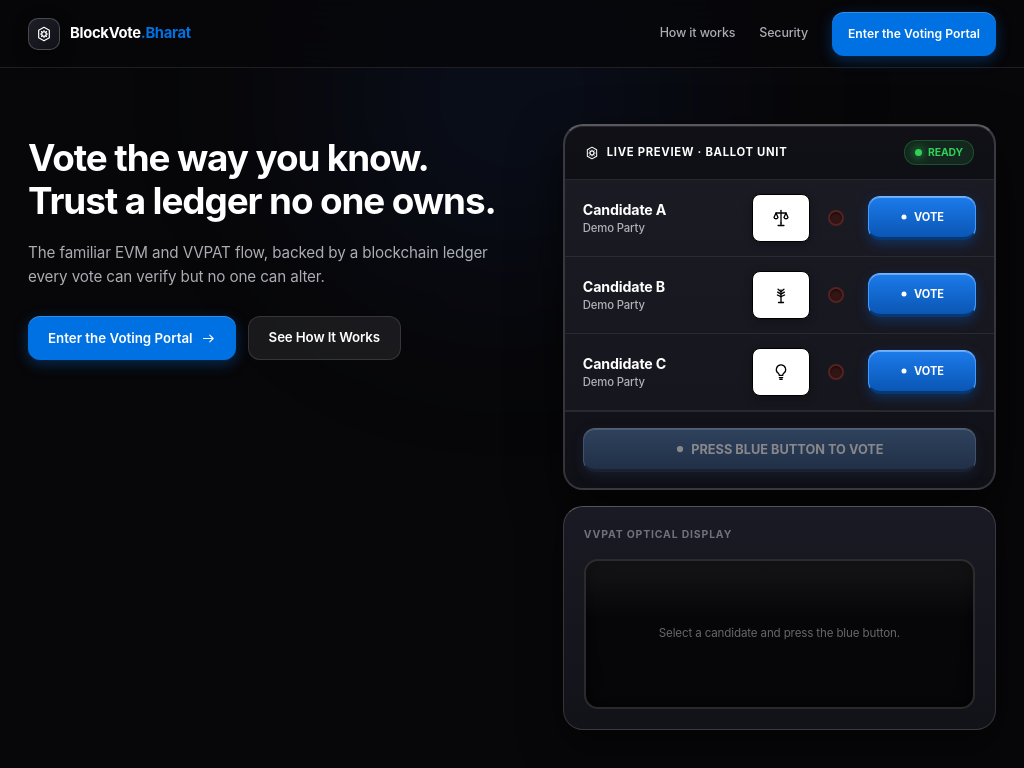
LandingView Component › lets a visitor try the live EVM/VVPAT preview before entering the app
The image size is (1024, 768).
Click the text "Candidate A" at (625, 209), box [583,201,666,218]
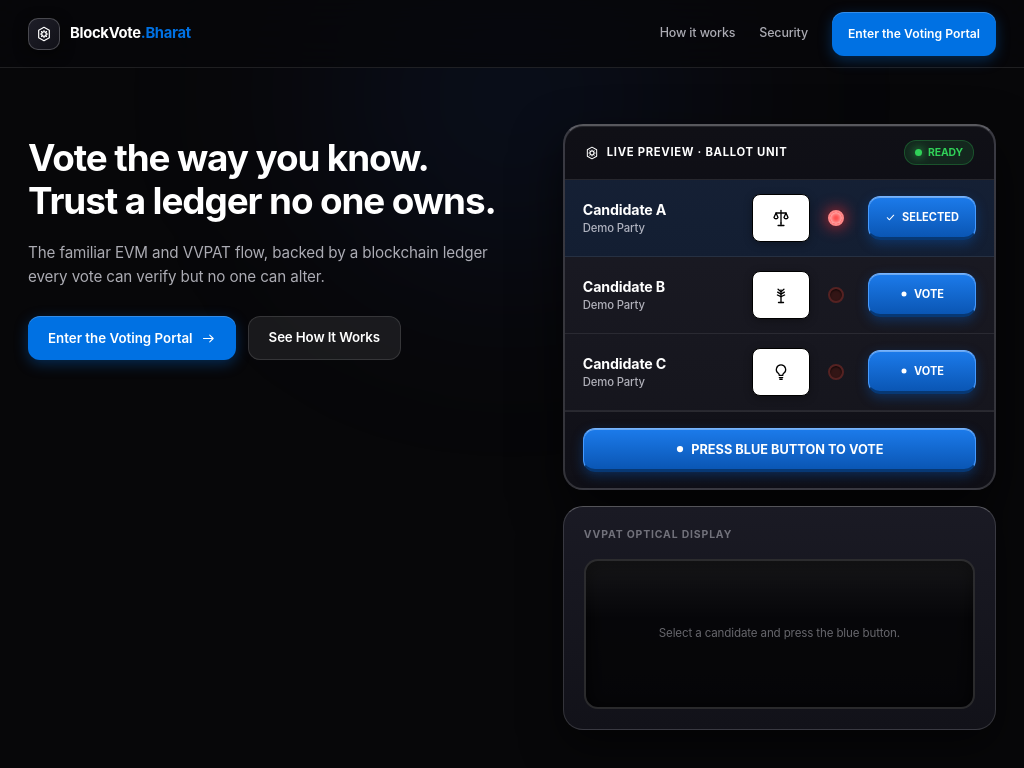
Check: the button "PRESS BLUE BUTTON TO VOTE" is enabled
Click the button "PRESS BLUE BUTTON TO VOTE" at (779, 450), box [583,428,976,472]
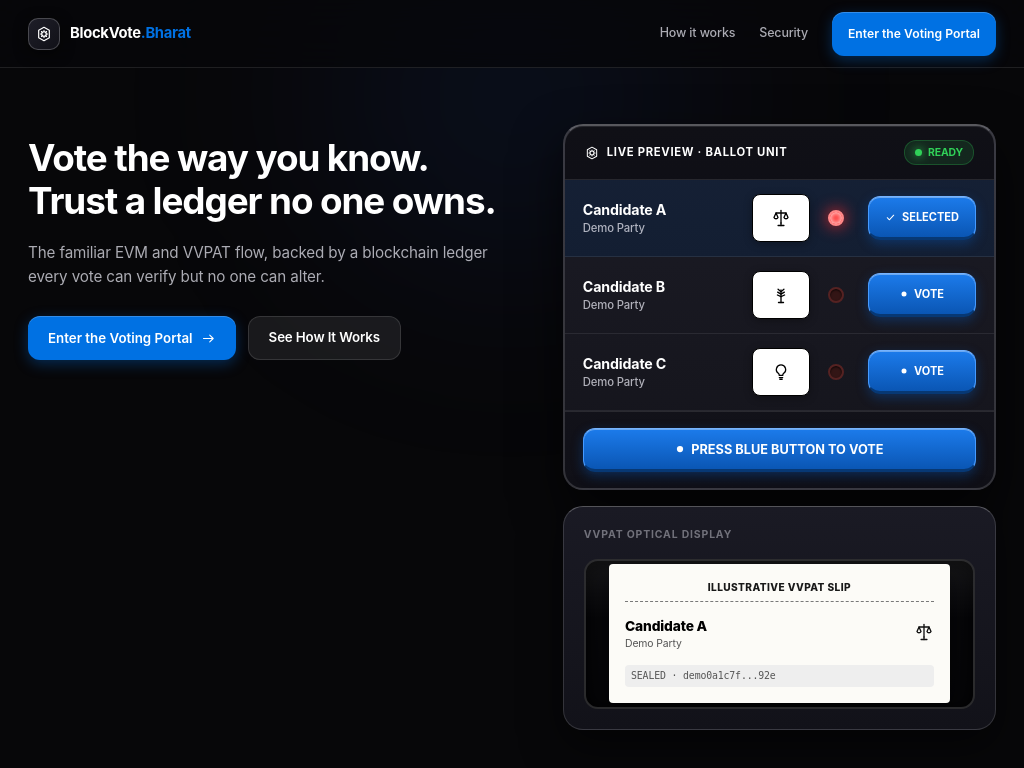
Check: the text "ILLUSTRATIVE VVPAT SLIP" is shown, box [625,580,934,602]
